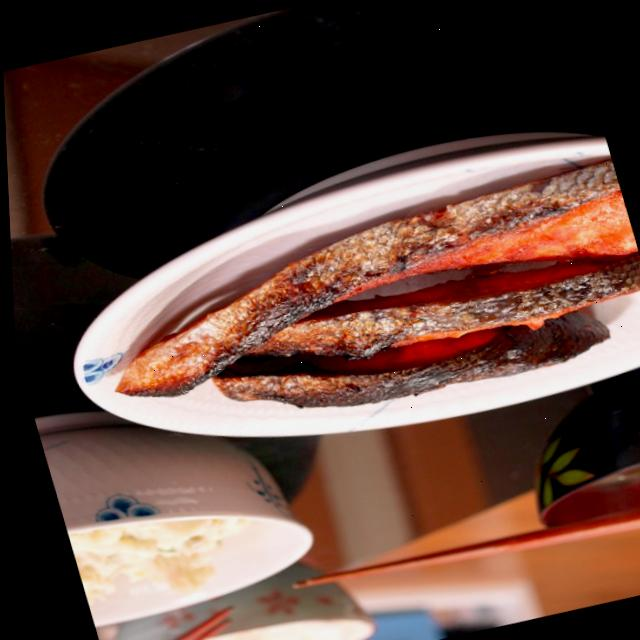熟制海鲜: (62, 111, 640, 514)
